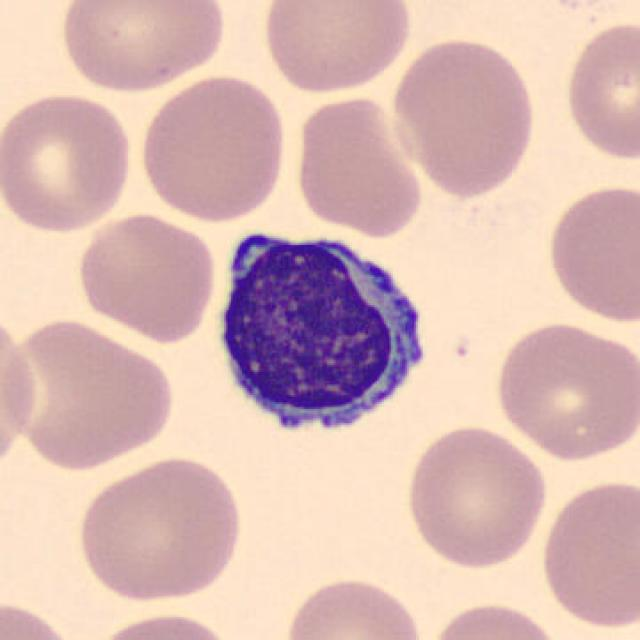Lymphocyte: (205, 217, 438, 448)
RBC: (4, 312, 178, 474), (73, 453, 247, 607), (386, 33, 540, 201), (135, 70, 290, 224), (402, 422, 549, 572), (491, 317, 636, 464), (0, 86, 137, 236), (289, 93, 426, 240), (73, 210, 219, 346), (53, 0, 231, 95), (535, 474, 638, 633), (256, 0, 418, 97), (542, 178, 638, 326), (560, 18, 638, 162), (279, 573, 429, 640), (0, 302, 41, 479), (423, 597, 567, 640), (84, 608, 244, 640), (0, 596, 84, 640)
